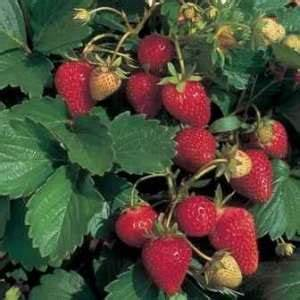Fresa: (205, 201, 262, 283), (139, 227, 195, 300), (222, 139, 277, 209), (156, 69, 217, 131), (52, 56, 101, 121), (168, 122, 219, 177), (112, 200, 164, 250), (132, 28, 183, 76), (172, 191, 219, 240), (246, 114, 292, 164), (123, 68, 165, 120)
